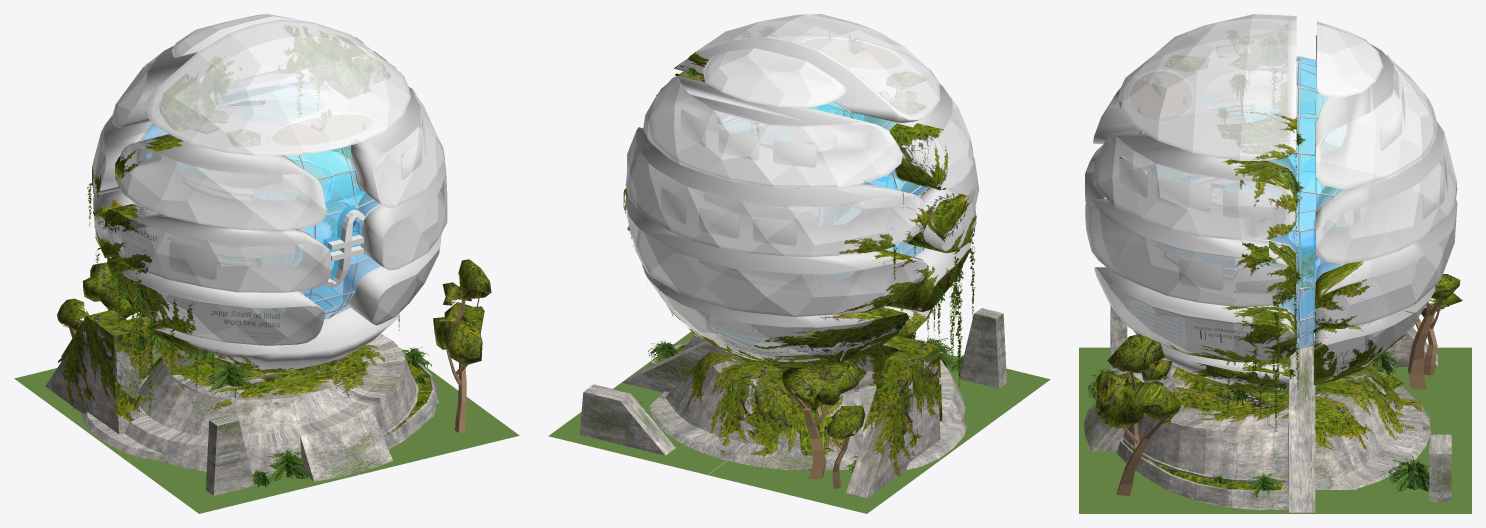
Rendered from Filecoin_test16.glb.
3 views of the same model, side by side, from view 1: azimuth 30°, elevation 25°; view 2: azimuth 150°, elevation 25°; view 3: azimuth 270°, elevation 25° (orthographic). The views are drawn at different scales.
Parts seen in each view (by area): view 1: North Windows, North Walls, Base, South Walls, Ferns Ramp, Main Blue Windows.001, Fern Base, Plane.006, Icosphere.001, Plane.007, Ramp 1, South Windows (+20 smaller); view 2: South Windows, South Walls, North Walls, North Windows, Base, Fern Base, South Walls.001, Ferns Ramp, Plane.004, Ferns, Cube.014, Ramp 1 (+20 smaller); view 3: North Windows, North Walls, South Walls, South Windows, Base, Fern Base, Ferns, Main Blue Windows.001, Icosphere.001, Plane.005, Main Ramp.002, Plane.006 (+32 smaller).
Boxes of the visible parts, left/top/right/bottom form: North Windows: left=107, top=19, right=447, bottom=345; North Walls: left=107, top=20, right=446, bottom=372; Base: left=82, top=334, right=439, bottom=481; South Walls: left=93, top=16, right=355, bottom=260; Ferns Ramp: left=58, top=309, right=201, bottom=433; Main Blue Windows.001: left=133, top=124, right=380, bottom=318; Fern Base: left=138, top=344, right=385, bottom=414; Plane.006: left=357, top=368, right=519, bottom=474; Icosphere.001: left=433, top=259, right=491, bottom=432; Plane.007: left=107, top=445, right=358, bottom=513; Ramp 1: left=45, top=317, right=139, bottom=434; South Windows: left=92, top=14, right=330, bottom=253; South Windows: left=625, top=48, right=926, bottom=367; South Walls: left=626, top=48, right=926, bottom=361; North Walls: left=658, top=35, right=976, bottom=322; North Windows: left=676, top=14, right=979, bottom=301; Base: left=647, top=334, right=966, bottom=470; Fern Base: left=675, top=351, right=876, bottom=458; South Walls.001: left=623, top=188, right=928, bottom=370; Ferns Ramp: left=809, top=335, right=942, bottom=492; Plane.004: left=708, top=446, right=958, bottom=513; Ferns: left=674, top=52, right=976, bottom=253; Cube.014: left=579, top=384, right=675, bottom=455; Ramp 1: left=846, top=356, right=940, bottom=498; North Windows: left=1085, top=14, right=1296, bottom=361; North Walls: left=1085, top=17, right=1295, bottom=390; South Walls: left=1315, top=22, right=1457, bottom=348; South Windows: left=1316, top=21, right=1457, bottom=380; Base: left=1084, top=359, right=1430, bottom=510; Fern Base: left=1168, top=362, right=1433, bottom=469; Ferns: left=1154, top=112, right=1297, bottom=393; Main Blue Windows.001: left=1140, top=57, right=1345, bottom=347; Icosphere.001: left=1092, top=334, right=1181, bottom=495; Plane.005: left=1275, top=431, right=1471, bottom=513; Main Ramp.002: left=1289, top=268, right=1315, bottom=513; Plane.006: left=1079, top=431, right=1275, bottom=513.
Size of what is drawn, in the model's own units: 30.86 by 35.04 by 30.64.
32 materials, 25 textured.
